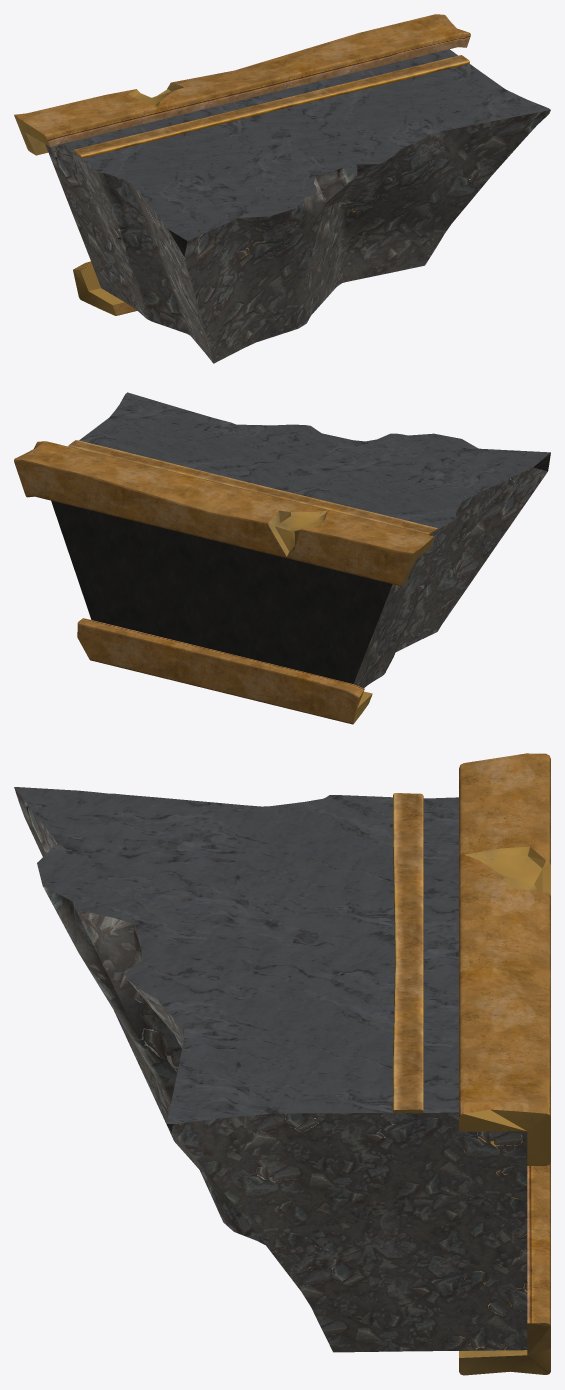
3 views of the same model, one above another, from view 1: azimuth 30°, elevation 25°; view 2: azimuth 150°, elevation 25°; view 3: azimuth 270°, elevation 25° (orthographic). The views are drawn at different scales.
Visible parts, largest first — view 1: SM_Kuldras_Arena_BridgePiece_03_LOD0; view 2: SM_Kuldras_Arena_BridgePiece_03_LOD0; view 3: SM_Kuldras_Arena_BridgePiece_03_LOD0.
Boxes of the visible parts, left/top/right/bottom form: SM_Kuldras_Arena_BridgePiece_03_LOD0: left=14, top=14, right=550, bottom=363; SM_Kuldras_Arena_BridgePiece_03_LOD0: left=14, top=392, right=550, bottom=724; SM_Kuldras_Arena_BridgePiece_03_LOD0: left=14, top=753, right=550, bottom=1375.
Size of the model in its own units: 14.41 by 6.44 by 9.29.
Materials: 5 (5 with a texture image).
